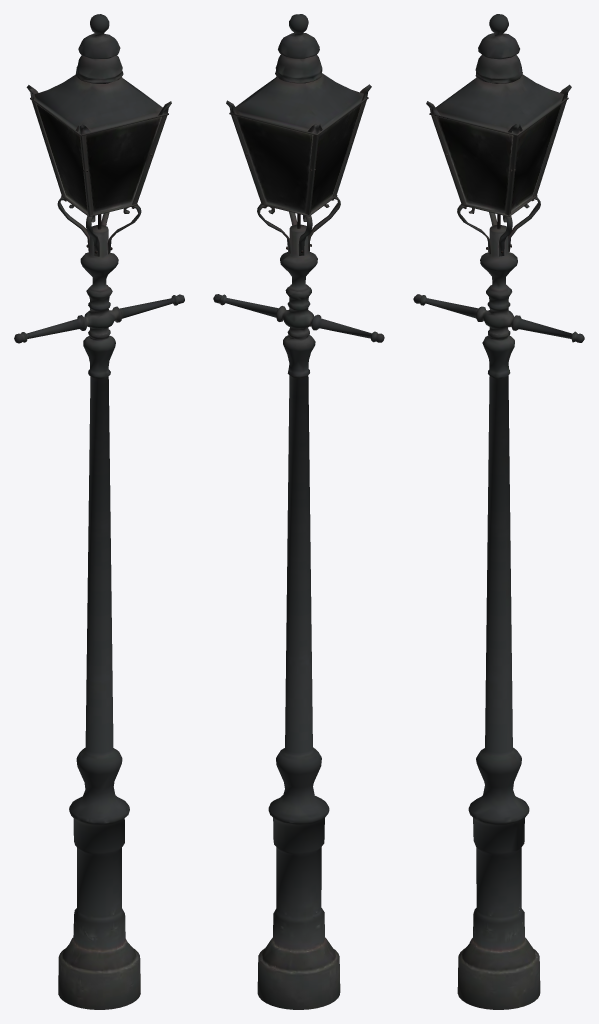
File: street_lamp_01_lod1.glb
3 renders of one model, left to right at view 1: azimuth 30°, elevation 25°; view 2: azimuth 150°, elevation 25°; view 3: azimuth 330°, elevation 25°, orthographic.
Visible parts, largest first — view 1: street_lamp_01; view 2: street_lamp_01; view 3: street_lamp_01.
Part boxes in pixels (box(x1,y1,x2,y2)): street_lamp_01: box(14, 14, 184, 1009); street_lamp_01: box(213, 14, 384, 1009); street_lamp_01: box(413, 14, 584, 1009).
Bounding box in the file's own units: 0.7028 × 3.87 × 0.3844.
Materials: 2 (2 with a texture image).
